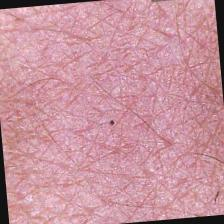Normal: (0, 1, 224, 224)
